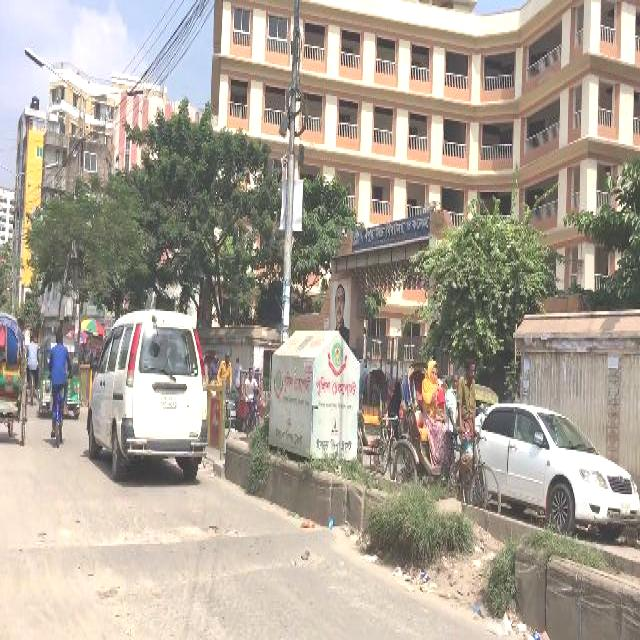SED: (476, 402, 640, 538)
TRUCK: (85, 311, 210, 484)
